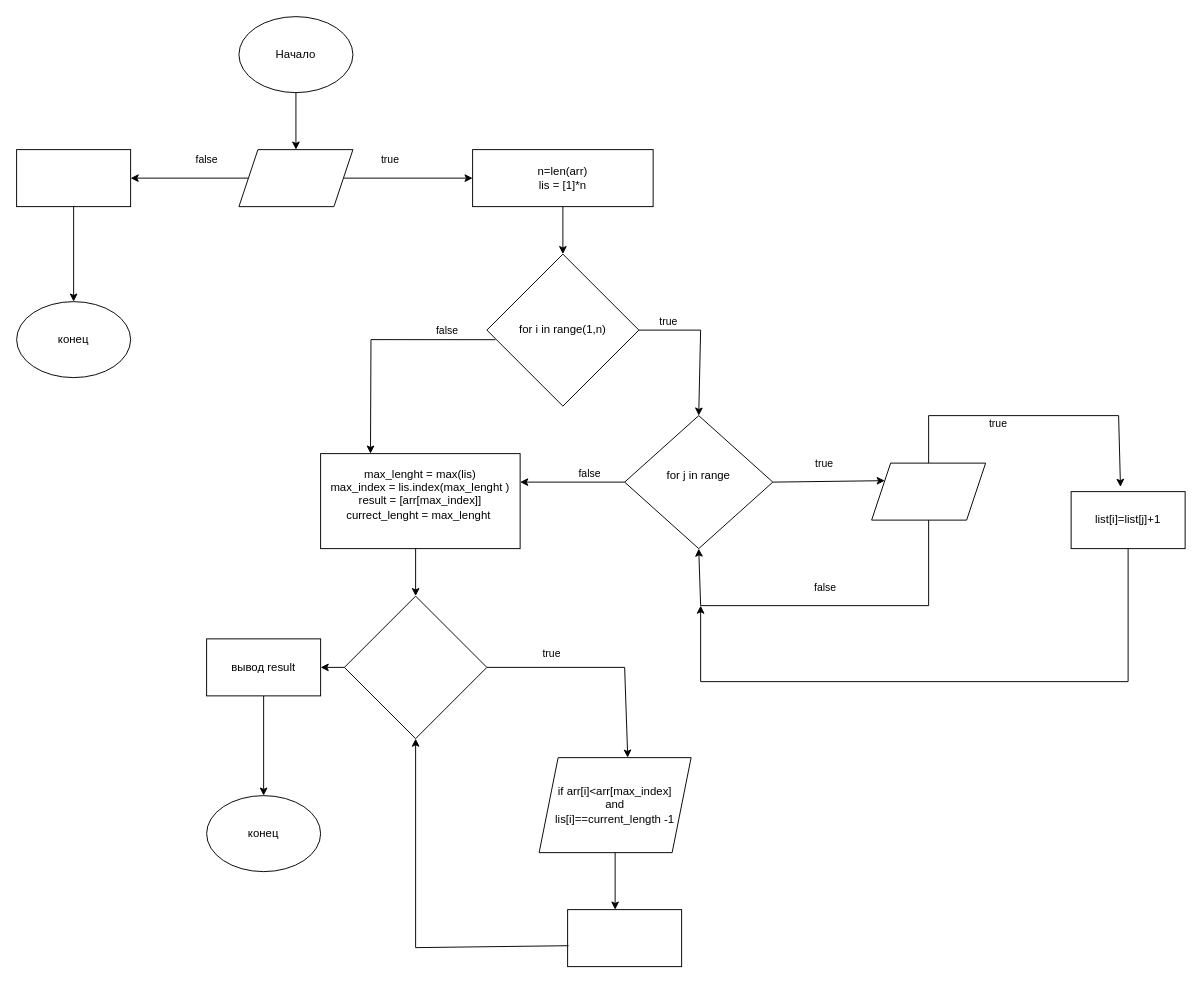
The diagram is 1202 pixels wide and 983 high, and some of its shapes have lost their labels. The shapes that lost their labels are listed below. From the top down, each one's centre as x and y in pixels, then its label:
At [73,178]: "вывод []".
At [295,178]: "if not arr".
At [928,491]: "if i>j".
At [415,667]: "for i range(max_index -1, -1, -1)".
At [624,938]: "result.insert(0, arr[i]) currect_length - = 1".
